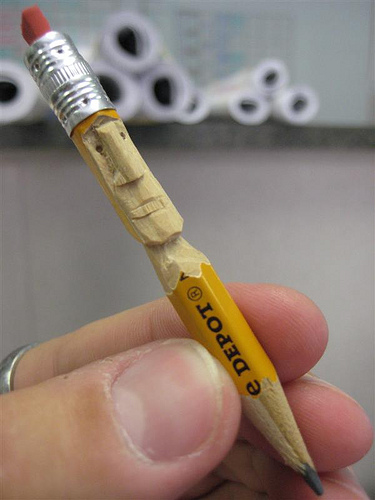pen_tip: (237, 378, 337, 499)
